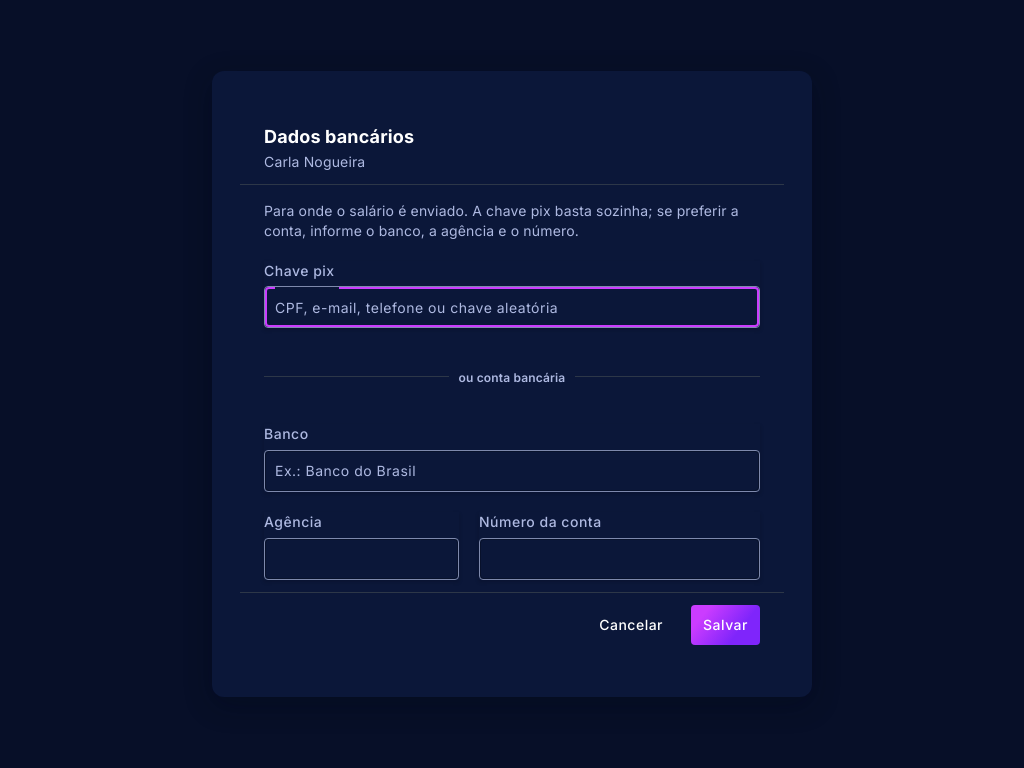
it: CollaboratorBankAccountDialog › refuses a form with nothing in it
The image size is (1024, 768).
Expected: the field labelled "Chave pix" is shown, [275,297,749,317]
Click the button "Salvar" at (726, 625), box [691,605,760,645]
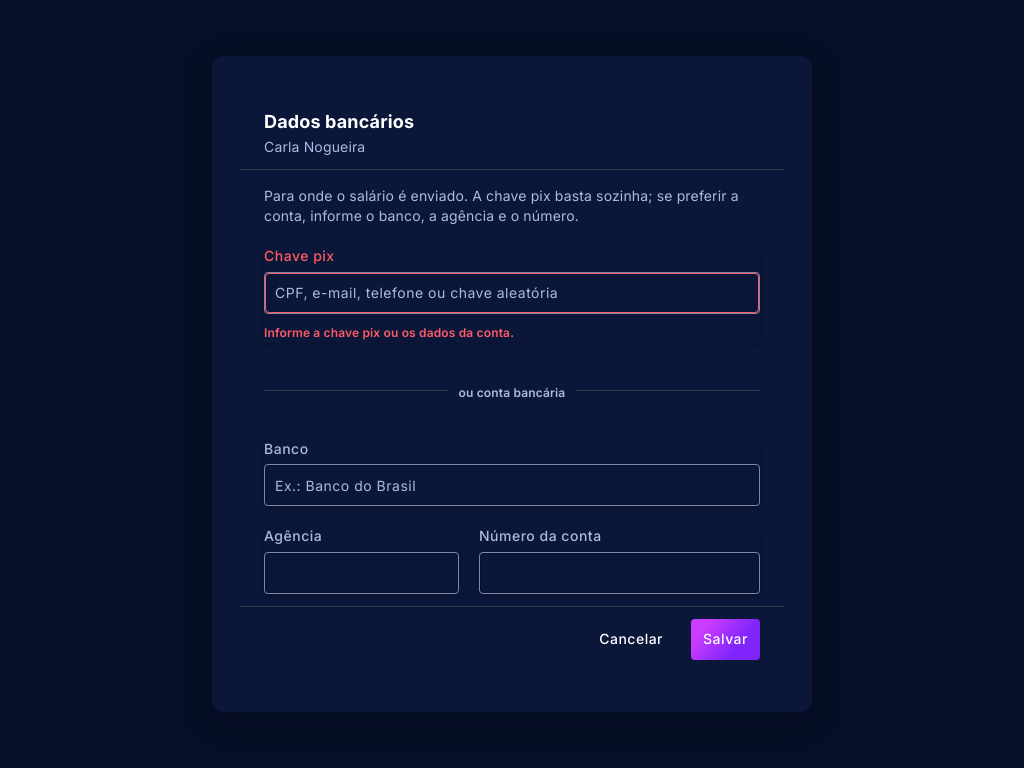
Expected: the text "Informe a chave pix ou os dados da conta." is shown, [264,325,514,340]
